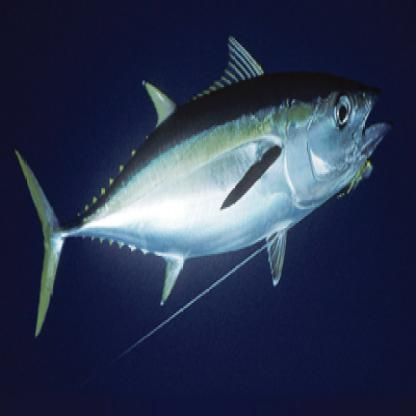tuna: (13, 29, 393, 342)
